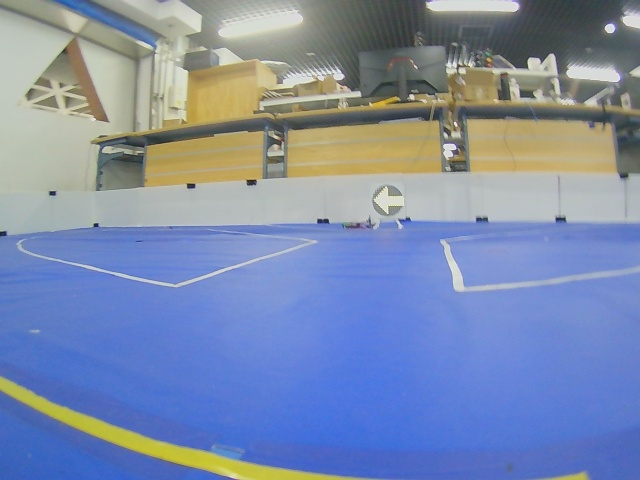left_yellow: (372, 185, 405, 216)
